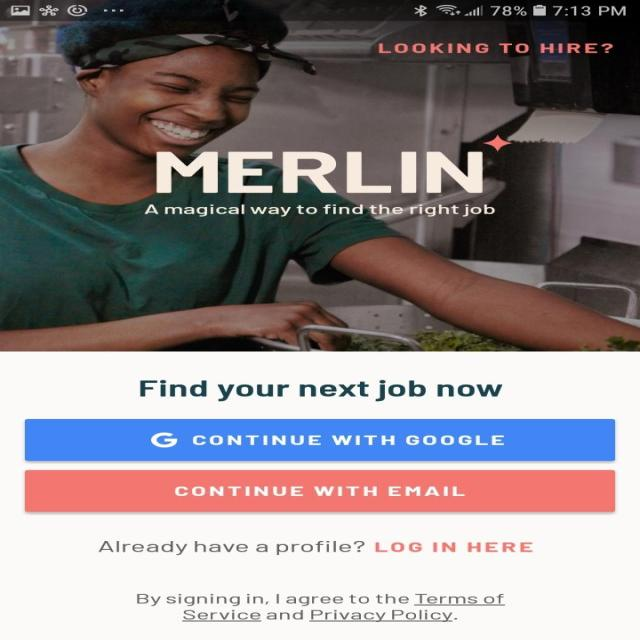Image: (0, 1, 639, 352), (156, 134, 512, 193)
Text: (136, 593, 505, 622), (140, 379, 502, 402), (98, 540, 532, 555), (145, 204, 495, 217), (377, 43, 612, 53)
TextButton: (25, 469, 615, 512), (25, 419, 615, 461)
